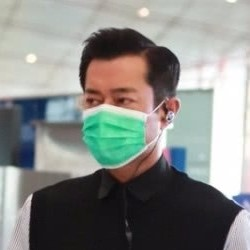mask: (78, 98, 151, 169)
